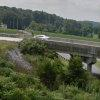Tree: (16, 32, 62, 95)
